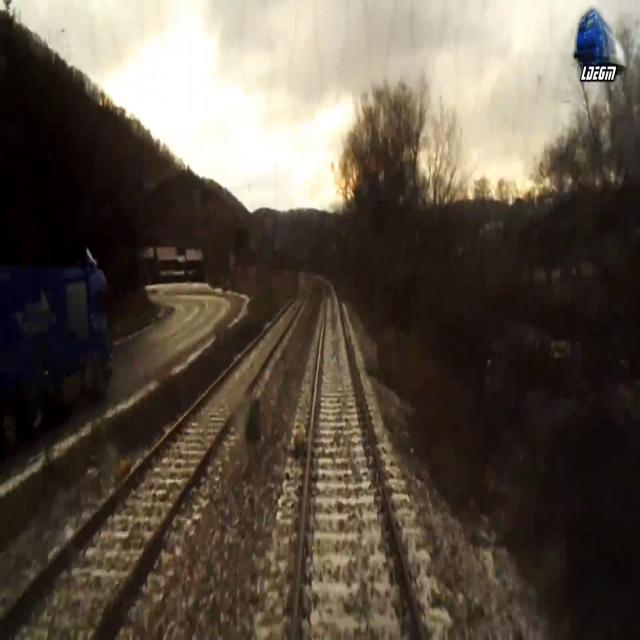rail-track: (0, 296, 303, 639), (296, 277, 421, 639)
